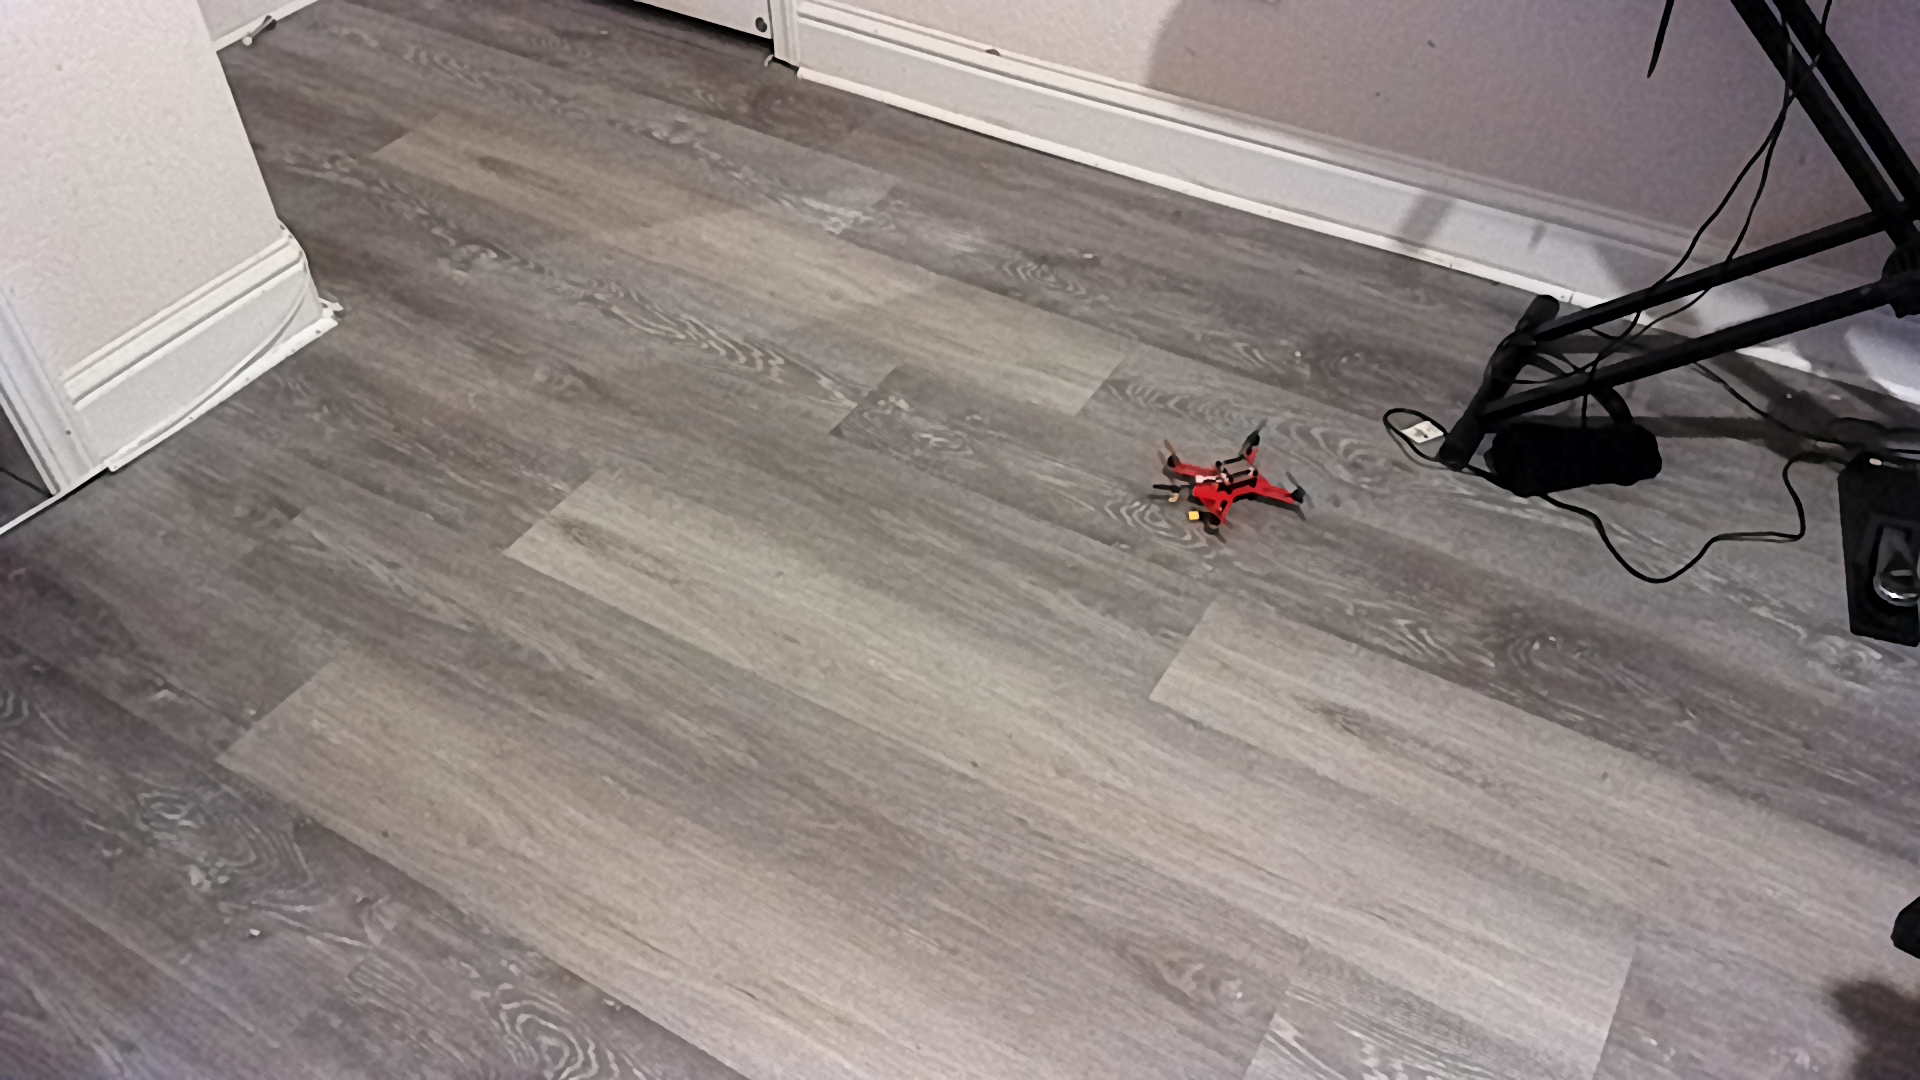drone: (1150, 421, 1329, 543)
